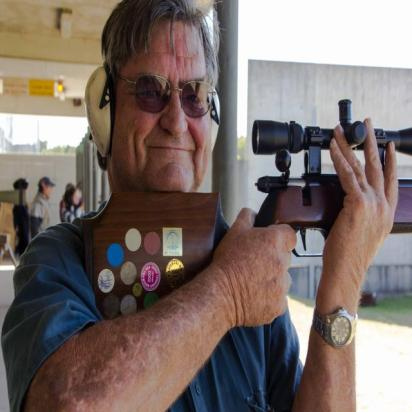Gun: (80, 97, 412, 328)
